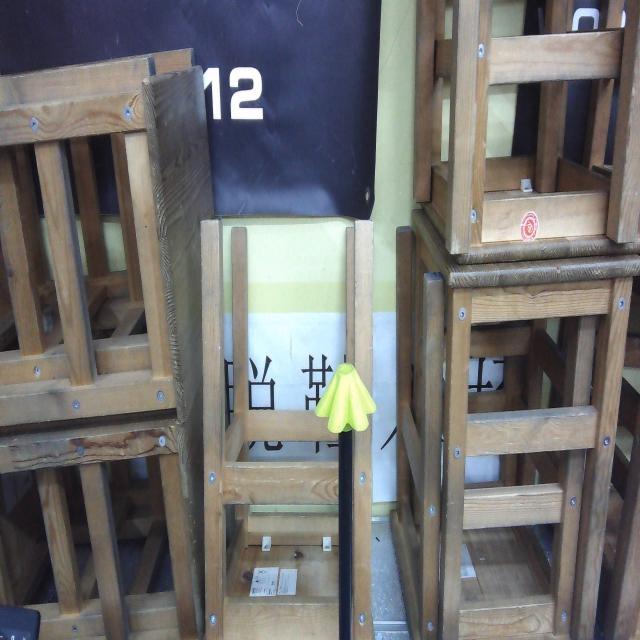Yellow-Stake-Head: (314, 362, 377, 433)
